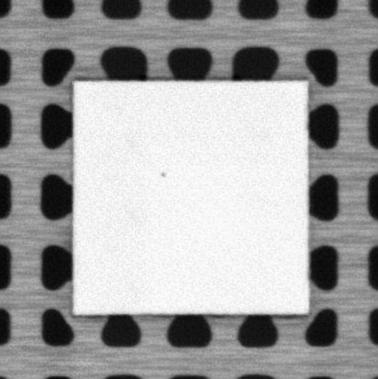DIE_INK: (159, 168, 167, 178)
